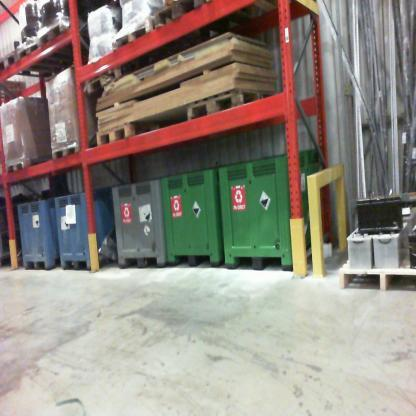pallets: (90, 86, 275, 148), (112, 0, 226, 57), (0, 22, 77, 75), (337, 260, 415, 292), (43, 140, 77, 168)
